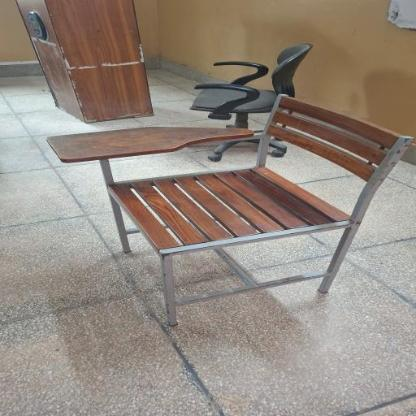chair: (46, 90, 415, 332), (187, 40, 317, 163)
